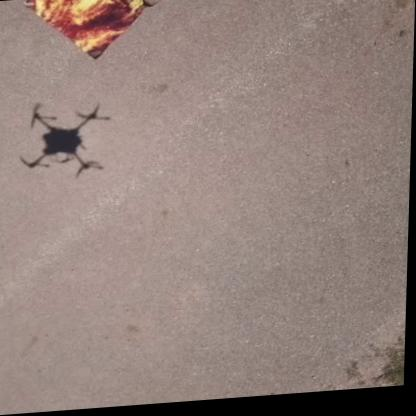fire-poster: (20, 0, 159, 65)
